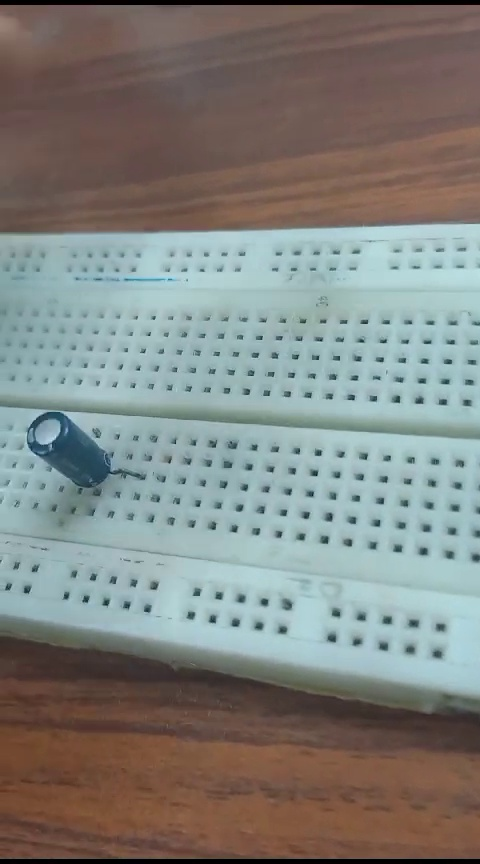capacitor: (22, 403, 132, 501)
